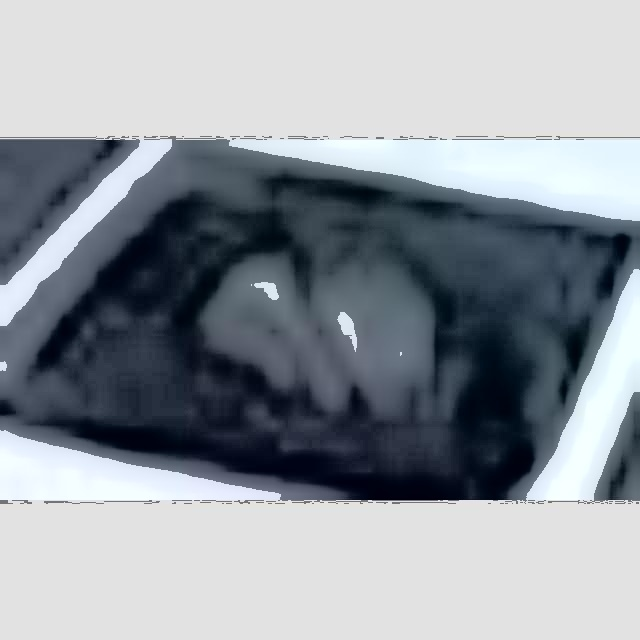pakai: (221, 233, 407, 454)
